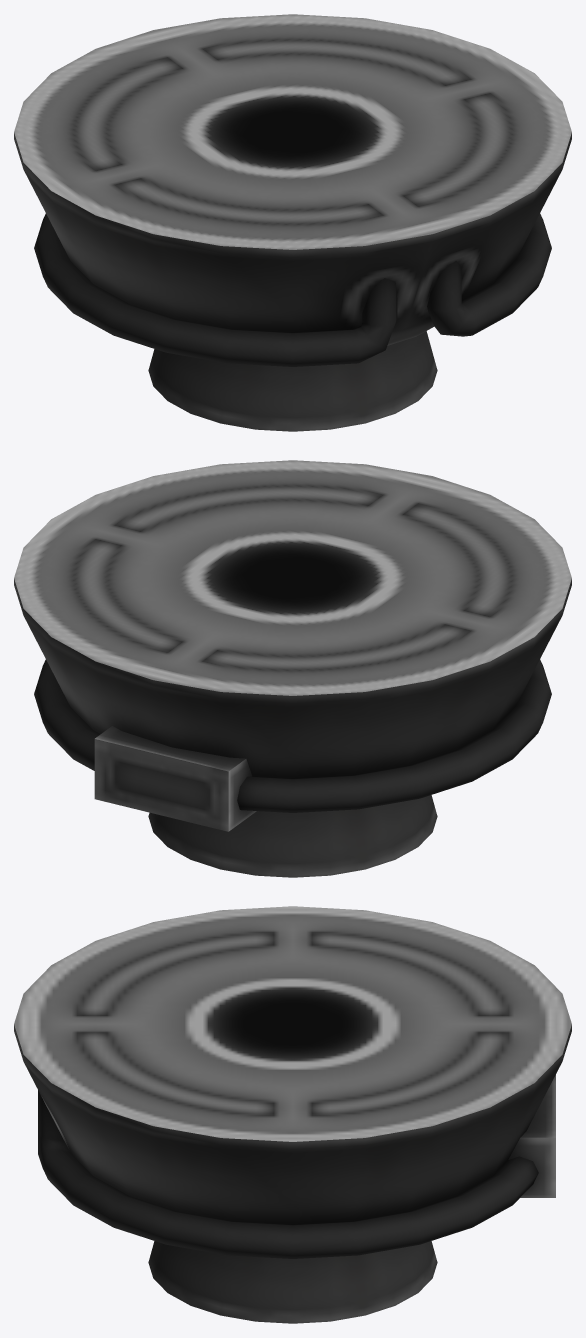
Rendered from Pioneer6_Engine.fbx.
3 renders of one model, top to bottom at view 1: azimuth 30°, elevation 25°; view 2: azimuth 150°, elevation 25°; view 3: azimuth 270°, elevation 25°, orthographic.
Parts seen in each view (by area): view 1: Pioneer6_Engine, pTorus1, pTorus2; view 2: Pioneer6_Engine, pTorus1, pCube2, pTorus2; view 3: Pioneer6_Engine, pTorus2, pCube2.
Part boxes in pixels (x1=…): Pioneer6_Engine: x1=14, y1=14, x2=571, y2=431; pTorus1: x1=34, y1=213, x2=397, y2=366; pTorus2: x1=427, y1=213, x2=551, y2=336; Pioneer6_Engine: x1=14, y1=460, x2=571, y2=877; pTorus1: x1=237, y1=659, x2=551, y2=812; pCube2: x1=94, y1=726, x2=256, y2=831; pTorus2: x1=34, y1=659, x2=100, y2=770; Pioneer6_Engine: x1=14, y1=906, x2=571, y2=1323; pTorus2: x1=38, y1=1090, x2=538, y2=1258; pCube2: x1=508, y1=1075, x2=555, y2=1197.
Size of the model in its own units: 0.3124 by 0.1473 by 0.3124.
Materials: 1 (1 with a texture image).
